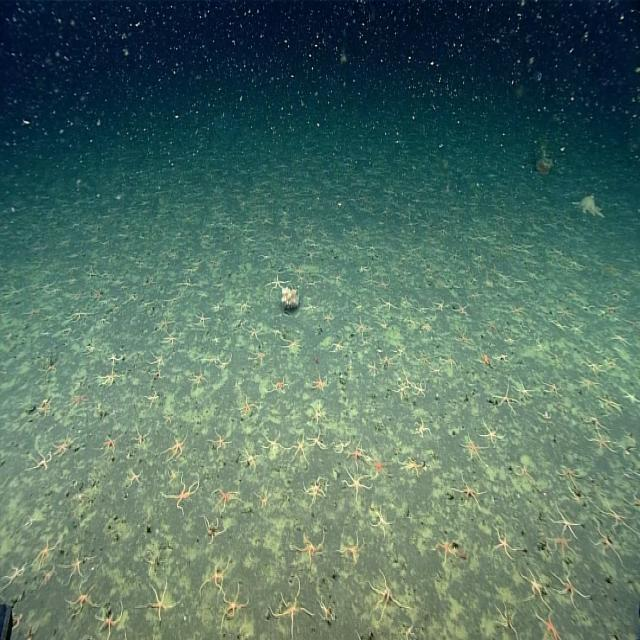brittle-stars: (270, 576, 313, 640), (367, 569, 412, 623), (549, 566, 591, 618), (594, 491, 638, 539), (589, 520, 629, 570), (198, 554, 238, 598), (164, 470, 200, 518), (147, 575, 181, 625), (289, 527, 327, 569), (488, 521, 523, 563), (452, 468, 485, 512), (548, 499, 580, 542), (63, 582, 100, 619), (519, 568, 551, 609), (56, 551, 93, 585), (368, 496, 396, 540), (491, 600, 524, 637), (93, 599, 125, 636), (343, 468, 373, 506), (334, 530, 365, 566), (159, 430, 190, 464), (462, 429, 488, 468), (31, 536, 60, 570), (492, 378, 518, 415), (584, 425, 618, 453), (219, 597, 247, 630), (346, 441, 373, 473), (428, 538, 462, 563), (555, 460, 580, 493), (550, 534, 580, 561), (50, 432, 80, 459), (481, 417, 506, 449), (201, 516, 226, 548), (206, 426, 233, 455), (302, 475, 326, 507), (290, 433, 312, 467), (370, 453, 396, 481), (210, 488, 239, 512), (262, 431, 286, 458), (37, 355, 62, 380), (188, 364, 209, 392), (94, 368, 122, 389), (318, 594, 335, 628), (305, 428, 329, 452), (599, 393, 623, 417), (30, 448, 53, 473), (207, 350, 234, 371), (263, 272, 290, 293), (393, 370, 413, 398), (404, 454, 424, 480), (310, 399, 328, 427), (582, 354, 603, 378), (66, 392, 91, 412), (514, 378, 534, 402), (103, 430, 122, 455), (242, 446, 260, 472), (281, 336, 302, 358), (241, 393, 261, 416), (154, 313, 178, 332), (270, 374, 292, 394), (147, 350, 167, 372), (132, 426, 150, 450), (253, 484, 270, 509), (332, 434, 352, 455), (350, 317, 370, 338), (380, 294, 400, 315), (310, 372, 329, 394), (126, 467, 145, 489), (102, 349, 124, 368), (516, 460, 534, 483), (412, 419, 432, 439), (248, 348, 268, 368), (244, 323, 264, 343), (300, 297, 320, 315), (144, 388, 160, 410), (328, 336, 347, 354), (412, 377, 427, 399), (193, 309, 210, 328), (147, 364, 166, 381), (379, 352, 394, 373), (544, 380, 562, 397), (320, 306, 337, 324), (493, 350, 511, 366), (376, 273, 391, 292), (431, 294, 445, 314), (160, 333, 176, 350), (444, 354, 459, 372), (367, 359, 380, 376)
